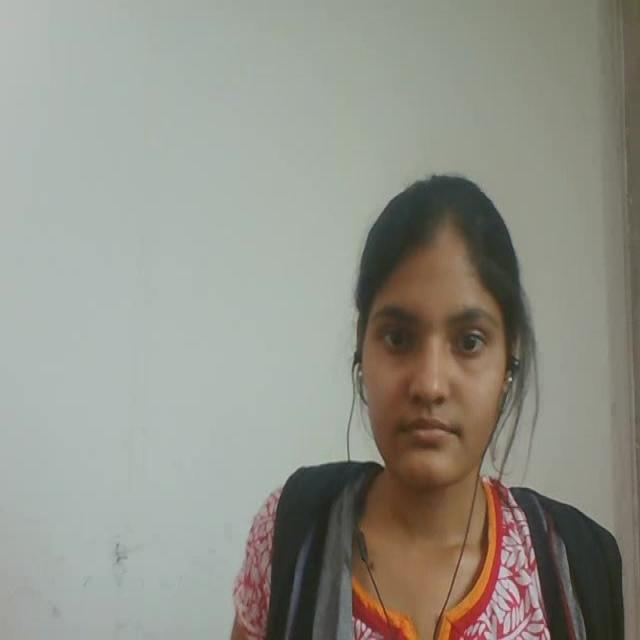Engaged: (334, 155, 557, 526)
